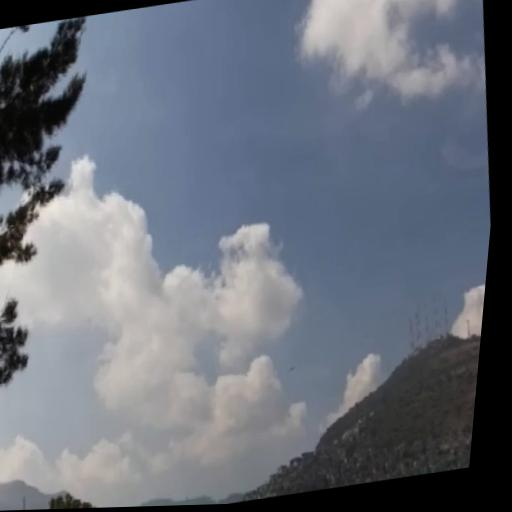drones: (285, 361, 298, 372)
